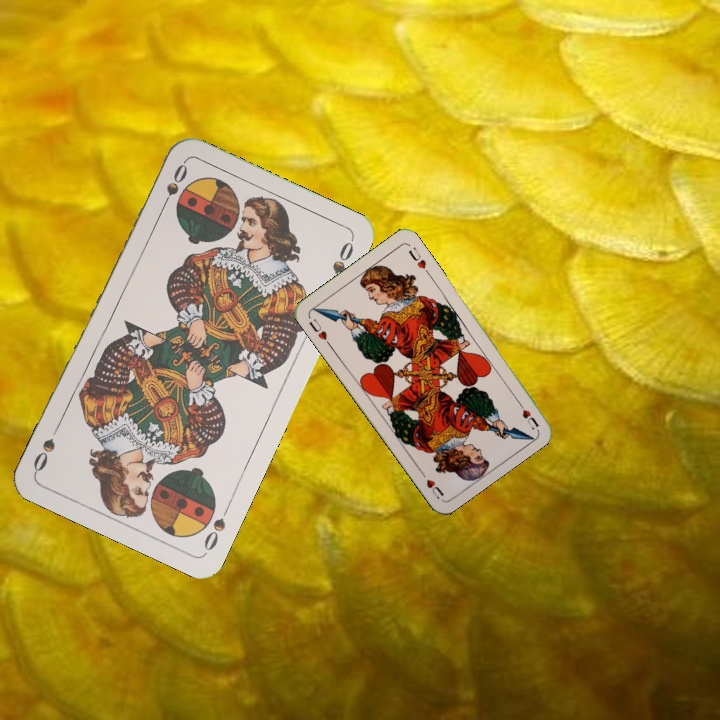HU: (512, 396, 541, 432), (305, 314, 333, 348)
SO: (156, 158, 191, 214), (200, 499, 233, 554)
